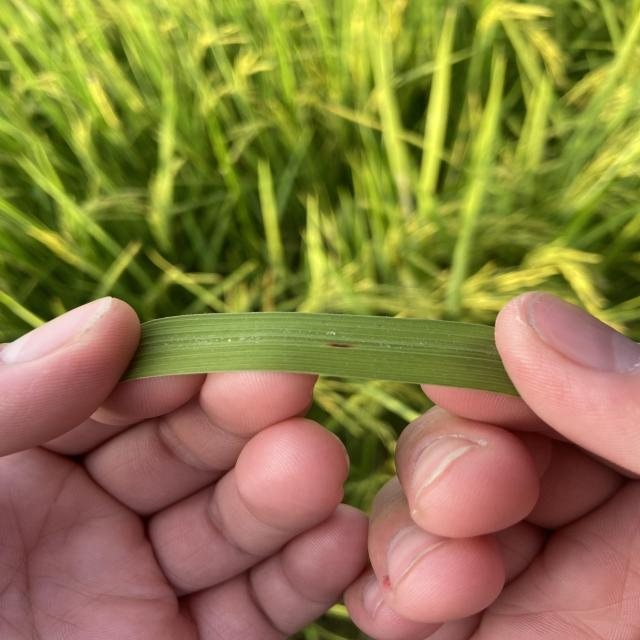Dom nau: (328, 343, 354, 348)
